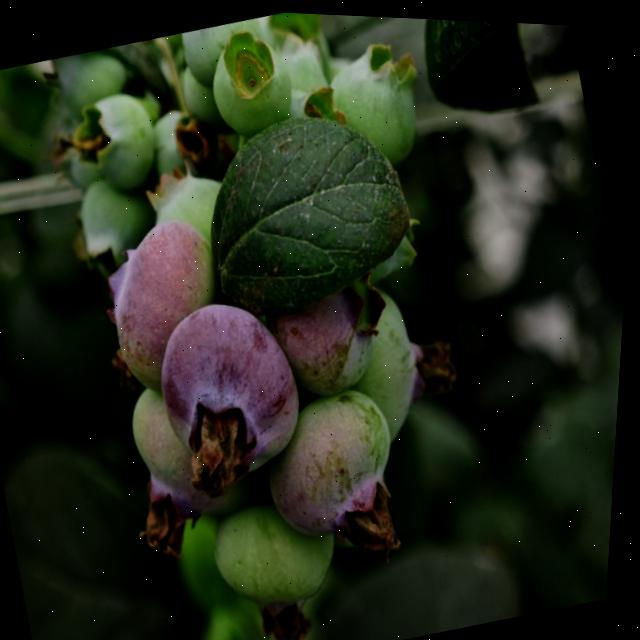Semi-RipeBlueBerry: (142, 281, 322, 495), (92, 207, 245, 398)
UnripeBlueBerry: (255, 378, 418, 549), (205, 481, 358, 619), (267, 257, 406, 408), (315, 33, 438, 178), (65, 83, 168, 201), (200, 24, 300, 135)
